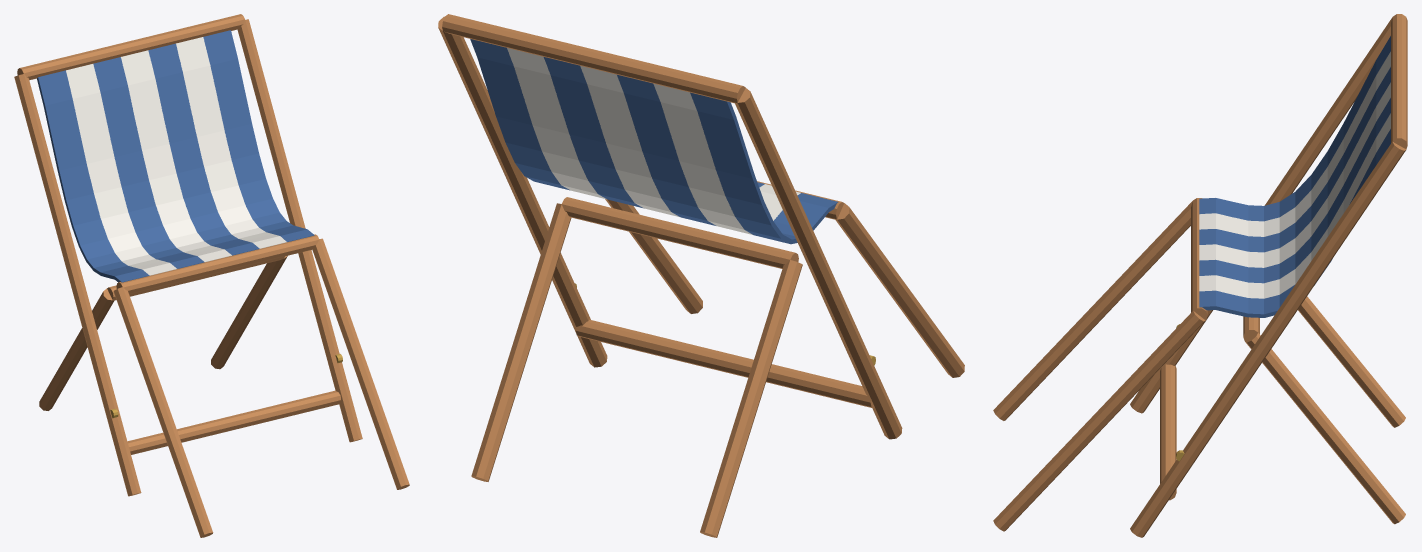
File: hh_cat_deck_chair.glb
The picture shows the model from 3 angles, left to right: view 1: azimuth 30°, elevation 25°; view 2: azimuth 150°, elevation 25°; view 3: azimuth 270°, elevation 25°; orthographic projection. The views are drawn at different scales.
Parts seen in each view (by area): view 1: sling, sling.001, sling.002, sling.006, sling.005, sling.003, sling.004, back_rail, back_rail.001, front_leg, front_leg.001, cross_bar (+5 smaller); view 2: back_rail, sling, back_rail.001, cross_bar, cross_bar.003, rear_strut, rear_strut.001, sling.001, sling.002, sling.004, sling.006, sling.005 (+4 smaller); view 3: back_rail.001, front_leg.001, front_leg, back_rail, rear_strut.001, sling, sling.001, sling.003, sling.002, sling.004, sling.005, rear_strut (+4 smaller).
Part boxes in pixels (x1,y1,x2,y2): sling: (37, 70, 149, 282); sling.001: (66, 64, 176, 275); sling.002: (93, 57, 204, 268); sling.006: (203, 30, 314, 241); sling.005: (176, 37, 286, 248); sling.003: (121, 50, 231, 262); sling.004: (148, 43, 259, 255); back_rail: (14, 74, 141, 496); back_rail.001: (237, 19, 362, 442); front_leg: (113, 287, 213, 537); front_leg.001: (312, 238, 409, 489); cross_bar: (17, 14, 244, 80); back_rail: (735, 88, 902, 439); sling: (690, 92, 838, 244); back_rail.001: (438, 16, 607, 367); cross_bar: (442, 14, 745, 103); cross_bar.003: (575, 319, 874, 408); rear_strut: (700, 260, 802, 537); rear_strut.001: (471, 203, 571, 481); sling.001: (653, 83, 800, 234); sling.002: (617, 74, 764, 225); sling.004: (543, 57, 643, 208); sling.006: (470, 39, 569, 190); sling.005: (507, 48, 606, 199); back_rail.001: (1130, 142, 1406, 537); front_leg.001: (993, 311, 1205, 531); front_leg: (993, 200, 1193, 420); back_rail: (1130, 17, 1392, 413); rear_strut.001: (1245, 332, 1405, 524); sling: (1199, 36, 1390, 221); sling.001: (1199, 51, 1390, 236); sling.003: (1199, 82, 1390, 267); sling.002: (1199, 67, 1390, 252); sling.004: (1199, 98, 1390, 283); sling.005: (1199, 113, 1390, 298); rear_strut: (1298, 296, 1405, 427).
Size of the model in its own units: 0.6 by 0.85 by 0.8.
